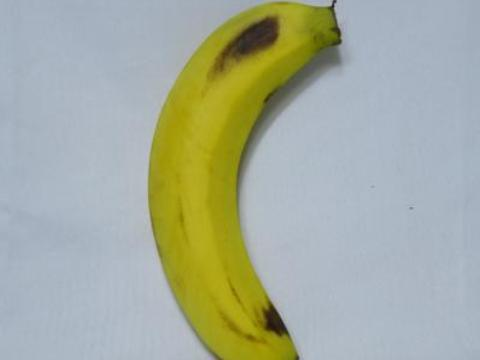freshripe: (121, 0, 386, 359)
